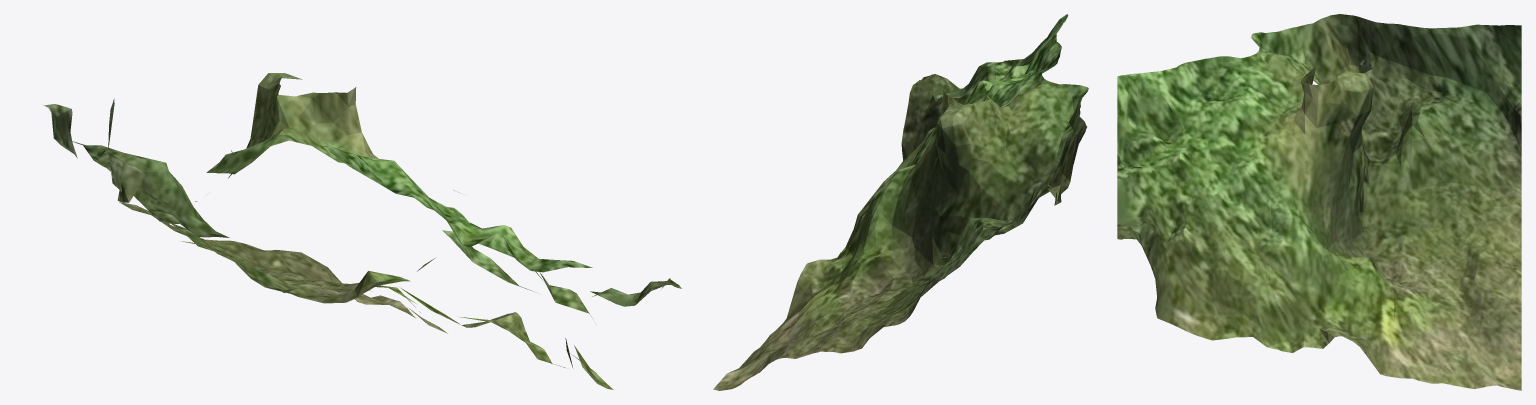
3 views of the same model, side by side, from view 1: azimuth 30°, elevation 25°; view 2: azimuth 150°, elevation 25°; view 3: azimuth 270°, elevation 25° (orthographic). The views are drawn at different scales.
Size of the model in its own units: 4.49 by 3.97 by 5.9.
3 materials, 3 textured.
